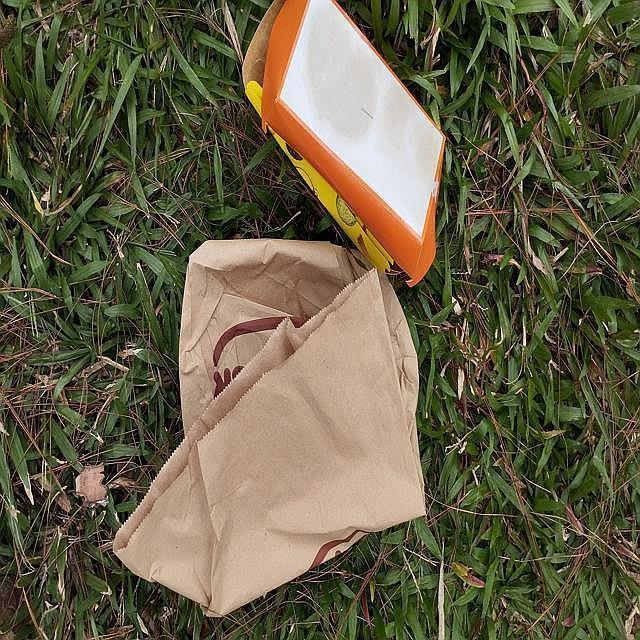Biodegradable: (117, 243, 425, 611), (246, 1, 441, 282)
